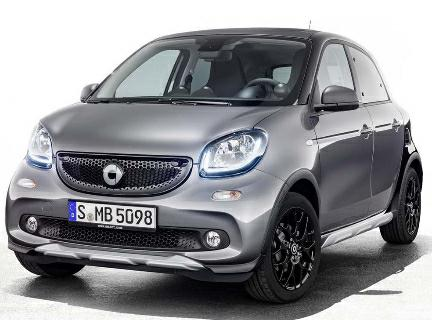smart-forfour: (20, 7, 422, 273)
